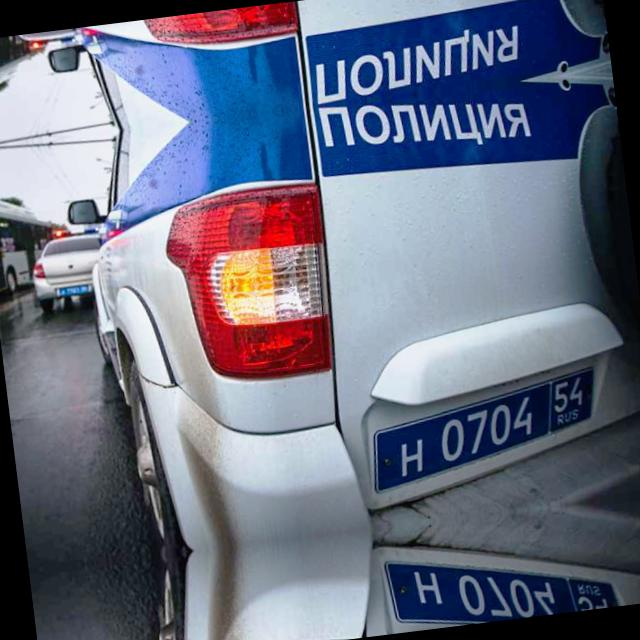police: (363, 362, 605, 492), (384, 534, 622, 634)
